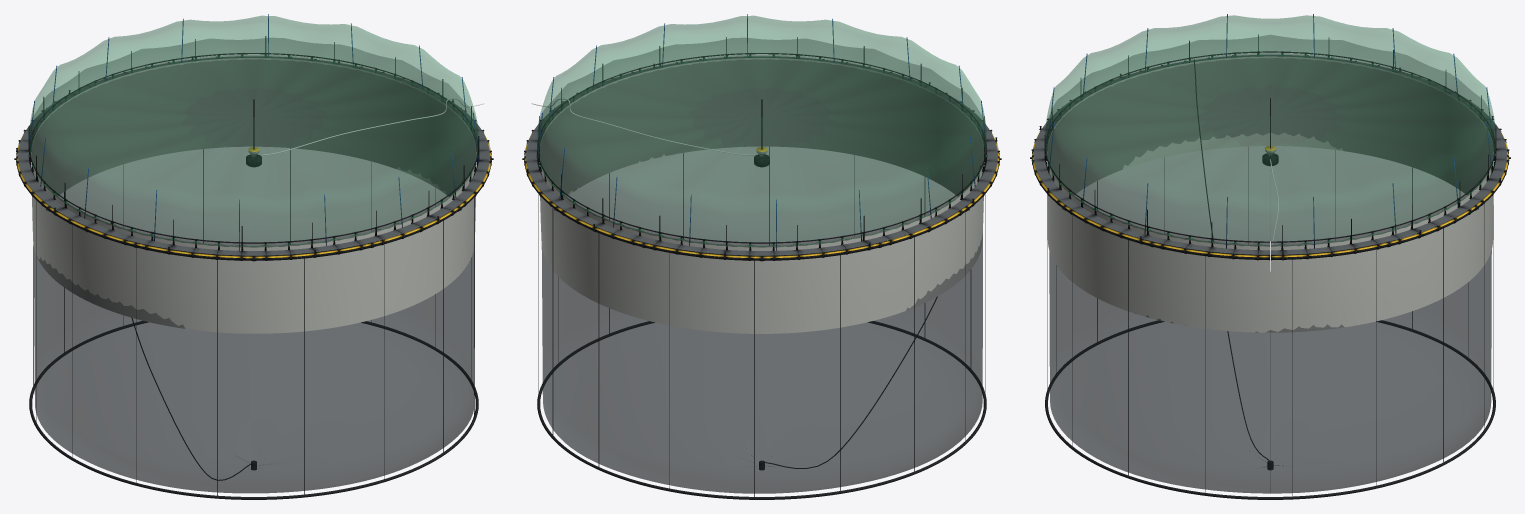
File: pen_cage_LOD0.glb
3 renders of one model, left to right at view 1: azimuth 30°, elevation 25°; view 2: azimuth 150°, elevation 25°; view 3: azimuth 270°, elevation 25°, orthographic.
Parts seen in each view (by area): view 1: Net, BirdNetRim, LiceSkirt, BirdNet, Walkway, SinkerTube, Handrail, Collar, Band, BirdNetRimPoles, BirdNetPoles; view 2: Net, BirdNetRim, LiceSkirt, BirdNet, SinkerTube, Walkway, Handrail, Collar, Band, BirdNetRimPoles, BirdNetPoles; view 3: Net, BirdNetRim, LiceSkirt, BirdNet, Walkway, SinkerTube, Handrail, Collar, Band, BirdNetRimPoles, BirdNetPoles.
Part boxes in pixels (x1,y1,x2,y2): Net: (31,54,476,493); BirdNetRim: (29,16,478,242); LiceSkirt: (31,58,476,333); BirdNet: (30,38,477,241); Walkway: (18,56,489,255); SinkerTube: (29,148,478,499); Handrail: (29,53,478,250); Collar: (14,57,493,261); Band: (16,132,491,258); BirdNetRimPoles: (30,14,478,250); BirdNetPoles: (28,36,479,250); Net: (540,54,984,493); BirdNetRim: (537,16,986,242); LiceSkirt: (540,58,983,333); BirdNet: (538,38,985,241); SinkerTube: (537,147,986,499); Walkway: (526,56,997,255); Handrail: (537,53,986,250); Collar: (522,55,1001,261); Band: (524,132,999,258); BirdNetRimPoles: (537,14,986,250); BirdNetPoles: (539,37,984,250); Net: (1046,53,1494,493); BirdNetRim: (1045,15,1495,241); LiceSkirt: (1047,56,1493,332); BirdNet: (1045,35,1495,240); Walkway: (1034,55,1506,254); SinkerTube: (1045,59,1495,499); Handrail: (1045,51,1495,250); Collar: (1030,53,1510,260); Band: (1032,131,1508,257); BirdNetRimPoles: (1048,14,1492,248); BirdNetPoles: (1044,34,1496,250).
Bounding box in the file's own units: 57.04 × 46 × 54.07.
